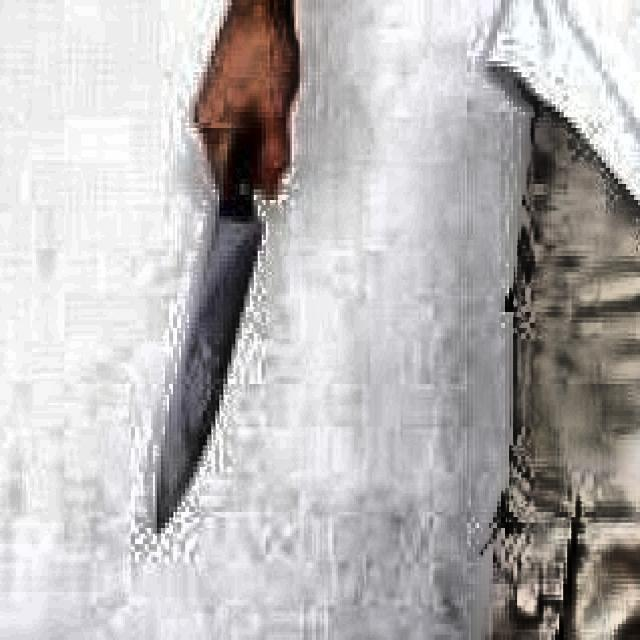knife: (157, 128, 266, 536)
